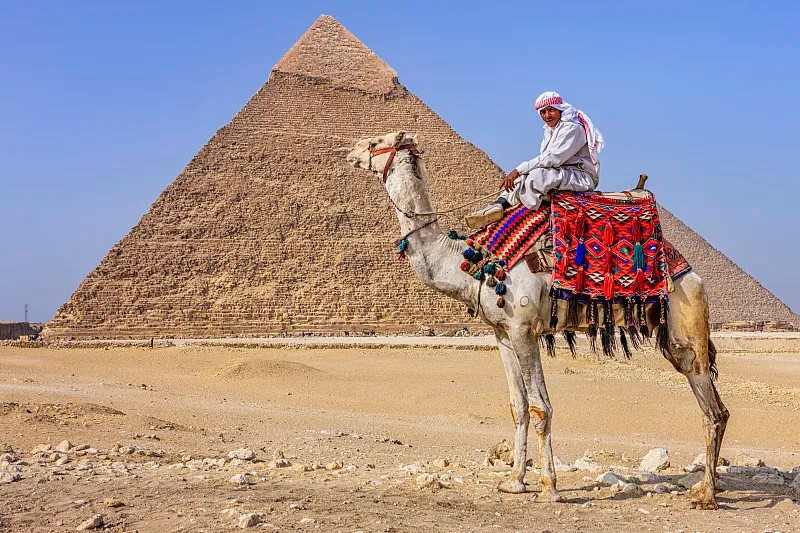Pyramid: (41, 14, 509, 337), (656, 200, 800, 333)
